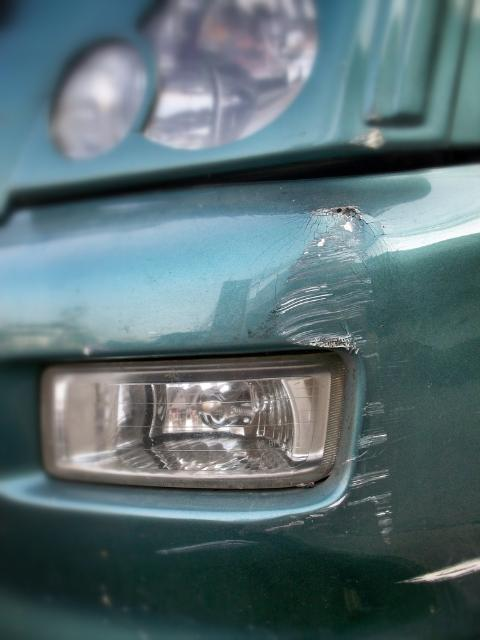scratch: (167, 203, 395, 558)
